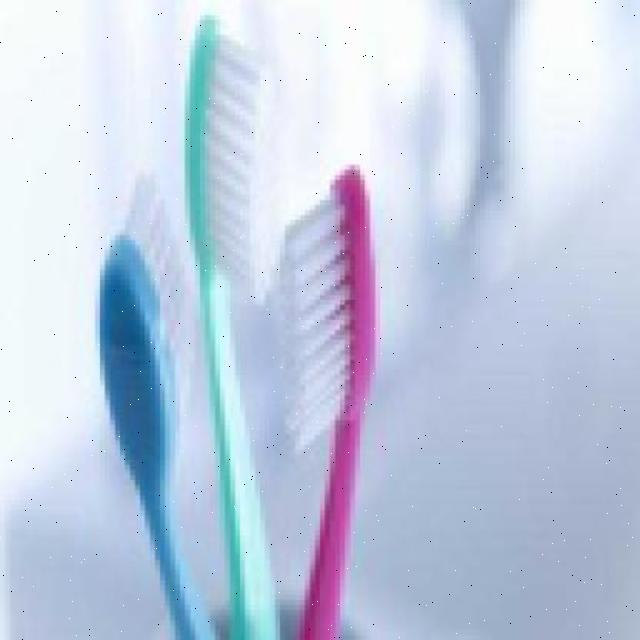toothbrush: (250, 142, 380, 640)
